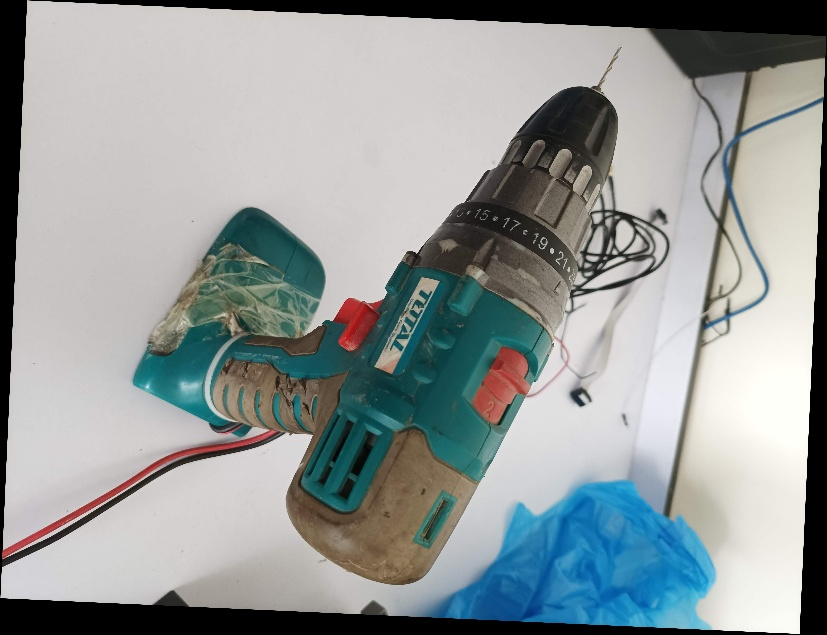driller: (128, 44, 624, 588)
